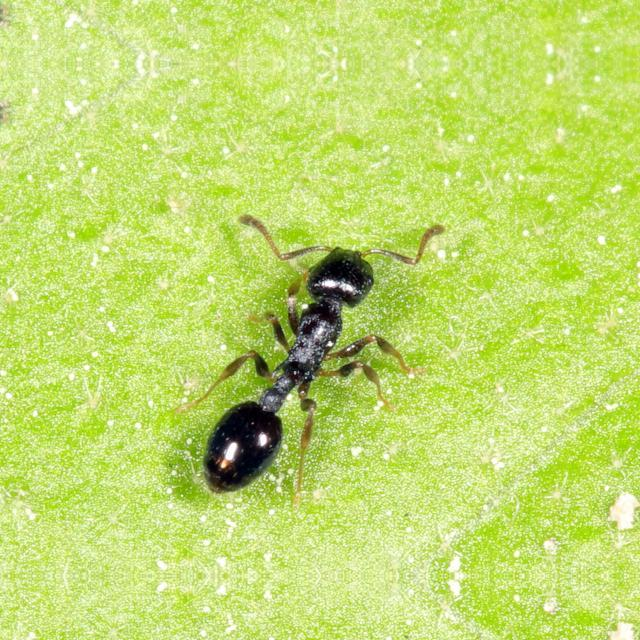Temnothorax: (162, 202, 420, 506)
